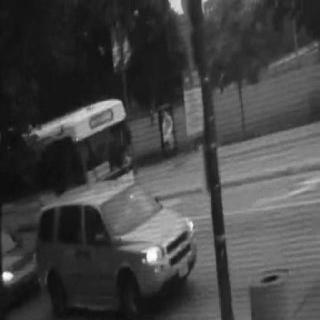other: (175, 205, 199, 243), (1, 266, 18, 286)
